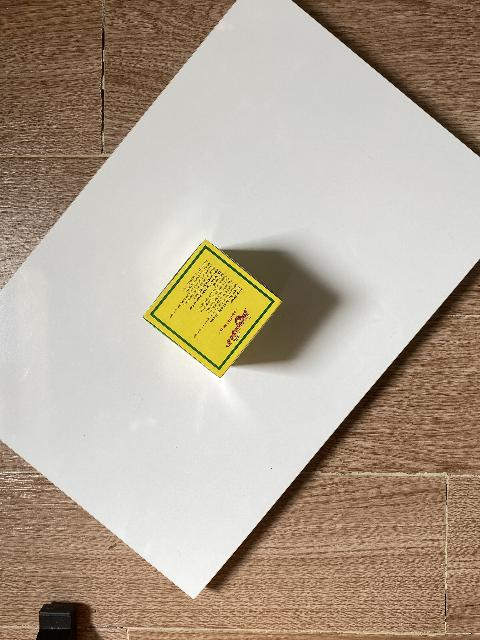luong_kho: (143, 240, 283, 379)
